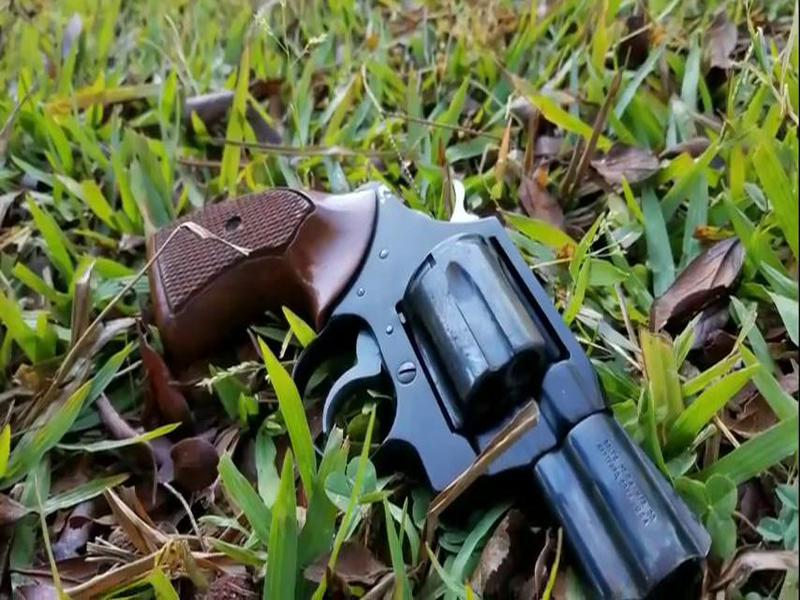Revolver: (135, 138, 740, 600)
